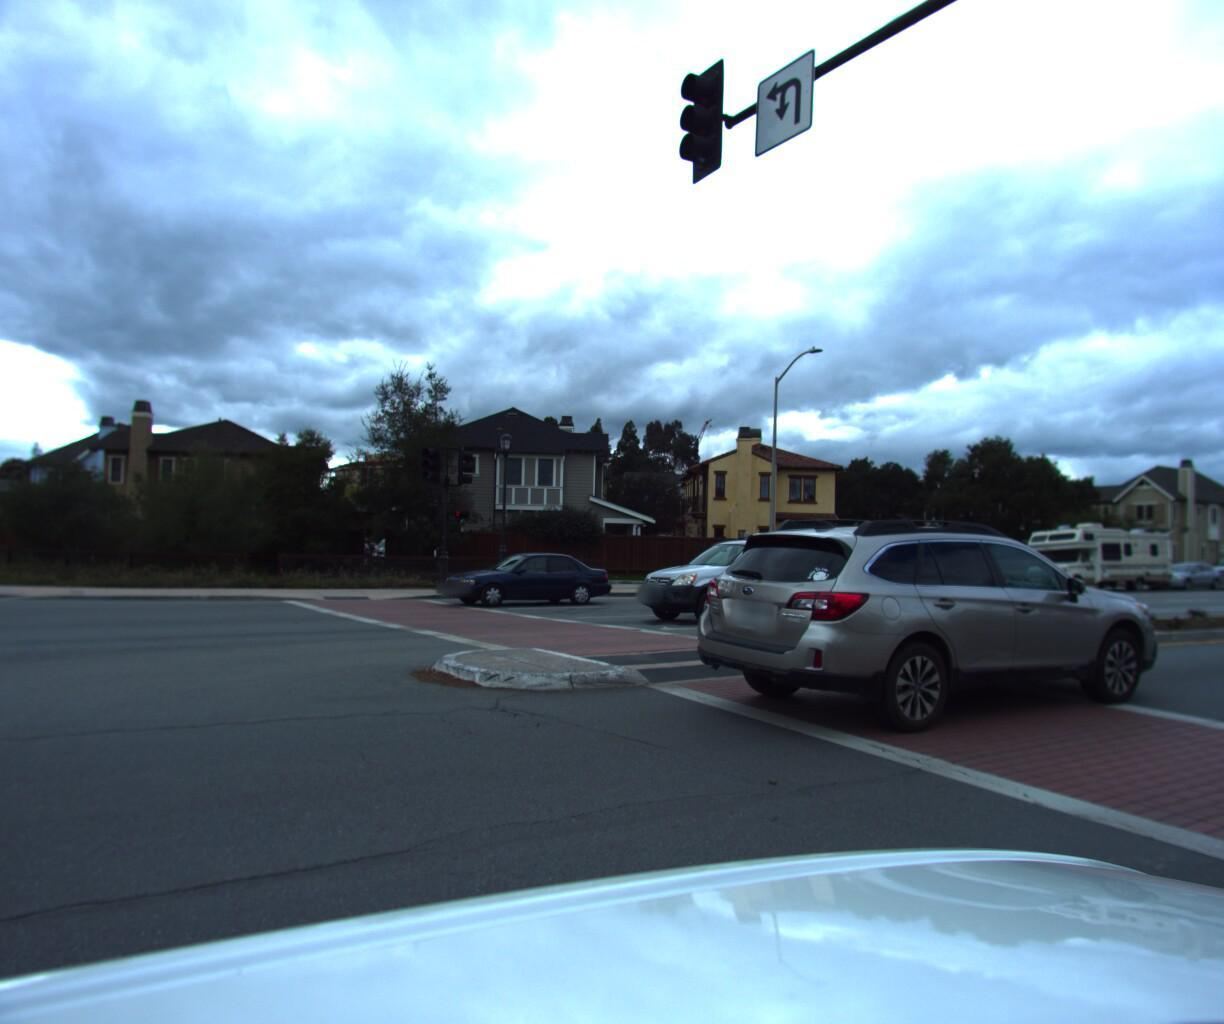car: (674, 506, 1179, 751), (603, 525, 856, 630), (426, 554, 619, 614), (1129, 564, 1223, 596), (1189, 549, 1224, 595)
other_vehicle: (1002, 522, 1171, 598)
